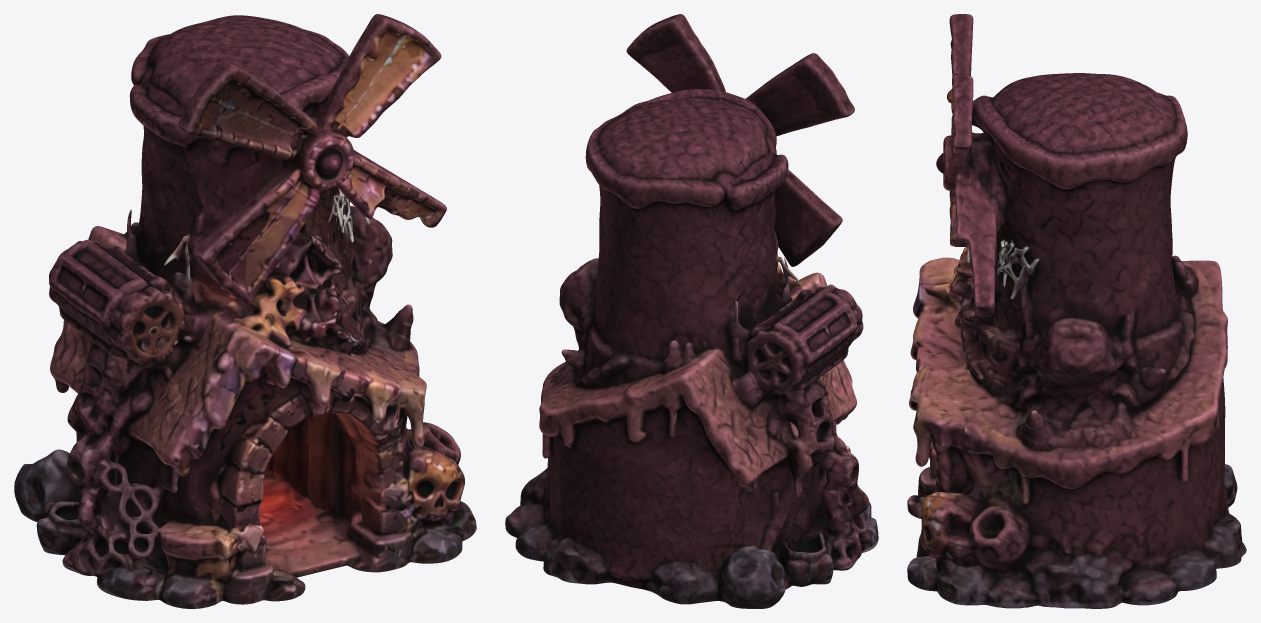
Rendered from Meshy_AI_Haunted_Windmill_20261104_texture.fbx.
3 renders of one model, left to right at view 1: azimuth 30°, elevation 25°; view 2: azimuth 150°, elevation 25°; view 3: azimuth 270°, elevation 25°, orthographic. The views are drawn at different scales.
Parts seen in each view (by area): view 1: Mesh_0; view 2: Mesh_0; view 3: Mesh_0.
Part boxes in pixels (x1,y1,x2,y2): Mesh_0: (14,14,476,608); Mesh_0: (505,14,878,608); Mesh_0: (907,14,1246,608).
Size of the model in its own units: 136 by 190 by 120.
1 material, 1 textured.
